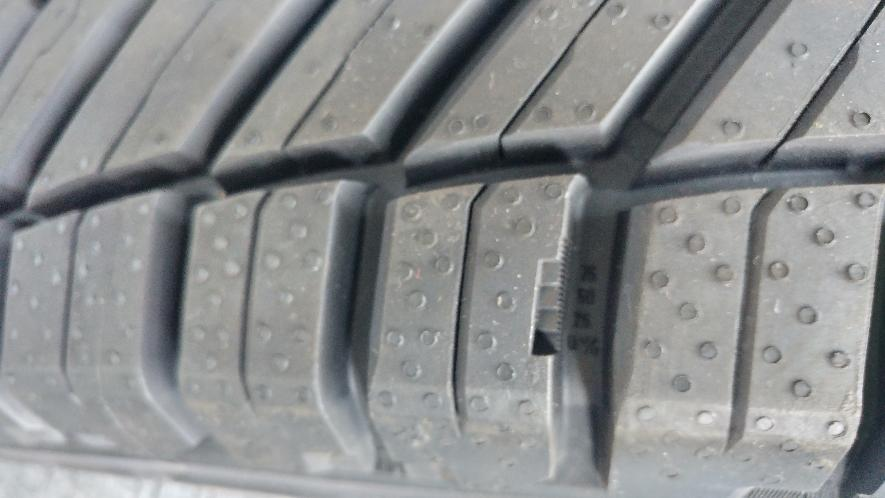temoin:100: (528, 237, 573, 360)
